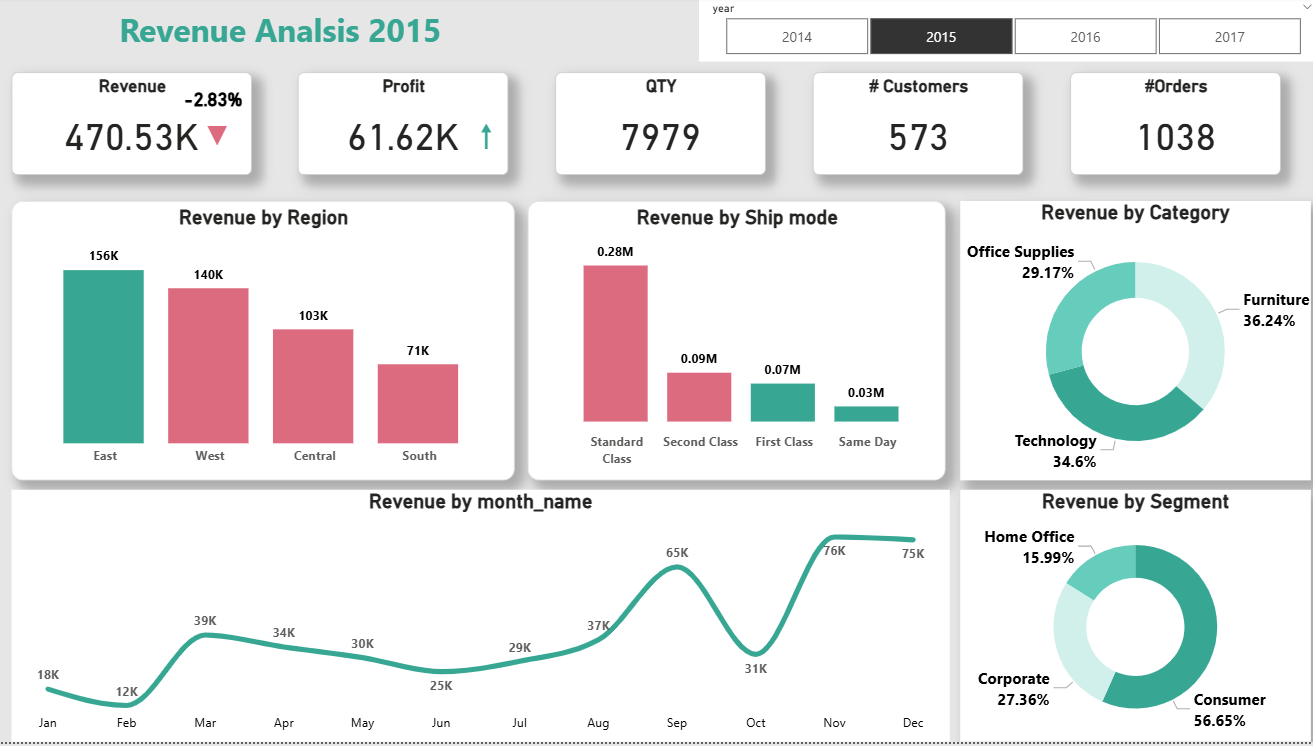

The page's visual inventory and layout, read from the dashboard file:
{"tool":"powerbi","page":{"name":"Main page","canvas":[1280,720],"ordinal":0},"visuals":[{"type":"card","title":"Revenue","fields":{"Values":["Calculations.Revenue"]},"box":[11.5,73.4,231.8,99.4],"z":0},{"type":"card","title":"Profit","fields":{"Values":["Calculations.profit"]},"box":[288.7,73.4,203,99.4],"z":1000},{"type":"card","title":"QTY","fields":{"Values":["Calculations.QTY"]},"box":[537.1,73.4,203,99.4],"z":2000},{"type":"card","title":"# Customers","fields":{"Values":["Calculations.#CUSTOMERS"]},"box":[785.5,73.4,203,99.4],"z":3000},{"type":"card","title":"#Orders","fields":{"Values":["Calculations.#Orders"]},"box":[1033.9,73.4,203,99.4],"z":4000},{"type":"slicer","fields":{"Values":["calender_date.year"]},"box":[675.2,0,604.8,63.4],"z":5000},{"type":"clusteredColumnChart","title":"Revenue by Region","fields":{"Category":["dlocations.Region"],"Y":["Calculations.Revenue"]},"box":[11.5,197.3,485.3,269.3],"z":6000},{"type":"clusteredColumnChart","title":"Revenue by Ship mode","fields":{"Y":["Calculations.Revenue"],"Category":["dshipmode.Ship Mode"]},"box":[510.5,197.3,403.2,269.3],"z":7000},{"type":"donutChart","title":"Revenue by Category","fields":{"Category":["dproduct.Category"],"Y":["Calculations.Revenue"]},"box":[927.4,197.3,338.4,269.3],"z":8000},{"type":"lineChart","fields":{"Category":["calender_date.month_name"],"Y":["Calculations.Revenue"]},"box":[11.5,476.6,905.8,243.4],"z":9000},{"type":"donutChart","title":"Revenue by Segment","fields":{"Category":["dcustomer.Segment"],"Y":["Calculations.Revenue"]},"box":[927.4,476.6,338.4,243.4],"z":10000},{"type":"card","fields":{"Values":["Calculations.Arrow Rev"]},"box":[167,96.5,87.8,76.3],"z":11000},{"type":"card","fields":{"Values":["Calculations.ARROW Profit"]},"box":[442.1,110.9,57.6,49],"z":12000},{"type":"actionButton","box":[0,0,542.9,63.4],"z":13000},{"type":"card","fields":{"Values":["Calculations.SUBTITEL VARREV"]},"box":[141.1,77.8,131,46.1],"z":14000}]}

Visuals, with their boxes in screenshot pixels (x1, y1, x2, y2), scaled from the page's 1280x720 canvas onto the 1313x746 screenshot:
"Revenue" card: region(12, 76, 250, 179)
"Profit" card: region(296, 76, 504, 179)
"QTY" card: region(551, 76, 759, 179)
"# Customers" card: region(806, 76, 1014, 179)
"#Orders" card: region(1061, 76, 1269, 179)
slicer - calender_date.year: region(693, 0, 1312, 66)
"Revenue by Region" clusteredColumnChart: region(12, 204, 510, 483)
"Revenue by Ship mode" clusteredColumnChart: region(524, 204, 937, 483)
"Revenue by Category" donutChart: region(951, 204, 1298, 483)
lineChart - calender_date.month_name x Calculations.Revenue: region(12, 494, 941, 745)
"Revenue by Segment" donutChart: region(951, 494, 1298, 745)
card - Calculations.Arrow Rev: region(171, 100, 261, 179)
card - Calculations.ARROW Profit: region(453, 115, 513, 166)
actionButton: region(0, 0, 557, 66)
card - Calculations.SUBTITEL VARREV: region(145, 81, 279, 128)
